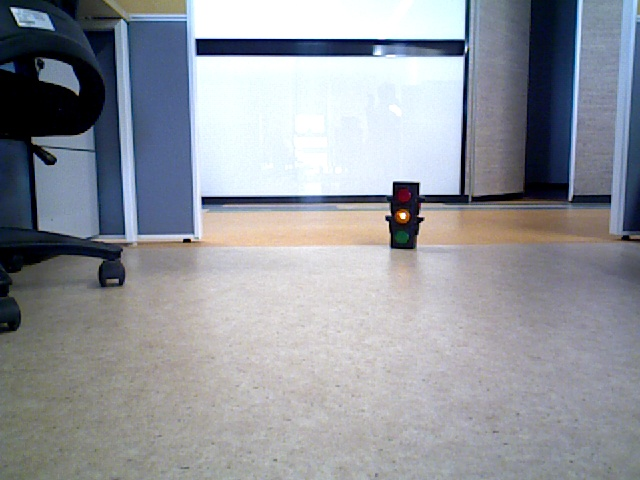yellow: (391, 187, 414, 246)
